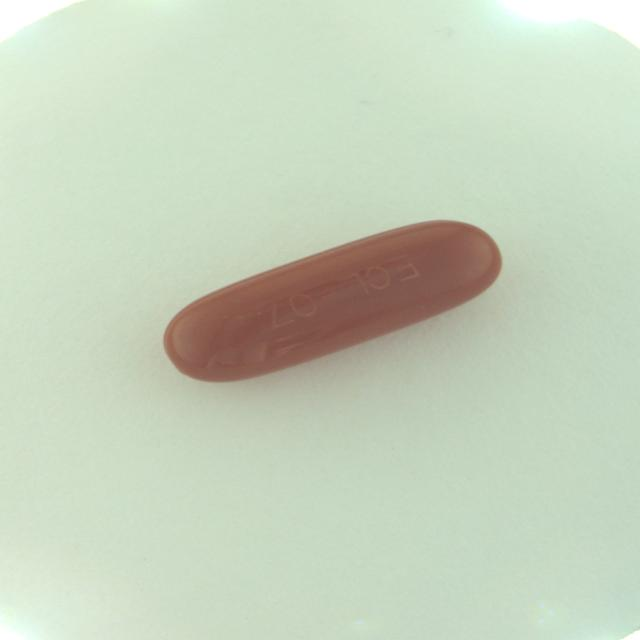Oval: (160, 217, 502, 386)
